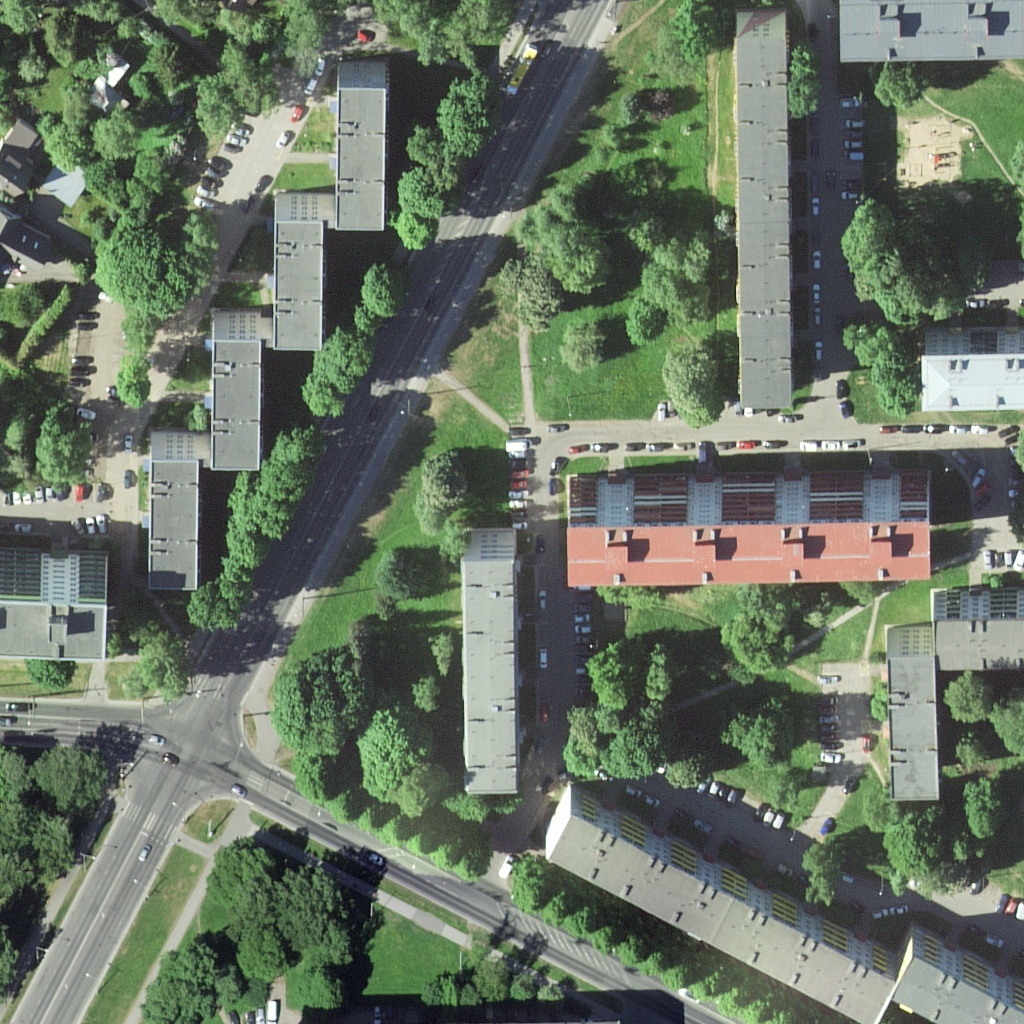building: (543, 779, 894, 1024), (564, 468, 931, 596), (730, 8, 798, 411), (456, 526, 523, 796), (1, 548, 115, 668), (901, 929, 1023, 1024), (834, 7, 1024, 66), (885, 622, 944, 808), (334, 57, 395, 231), (268, 196, 328, 358), (207, 310, 264, 477), (918, 328, 1024, 415), (929, 583, 1024, 677), (148, 425, 200, 595)
